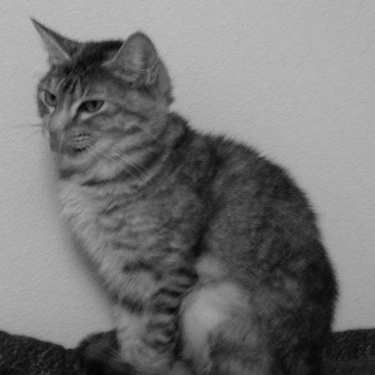cat: (28, 12, 338, 368)
